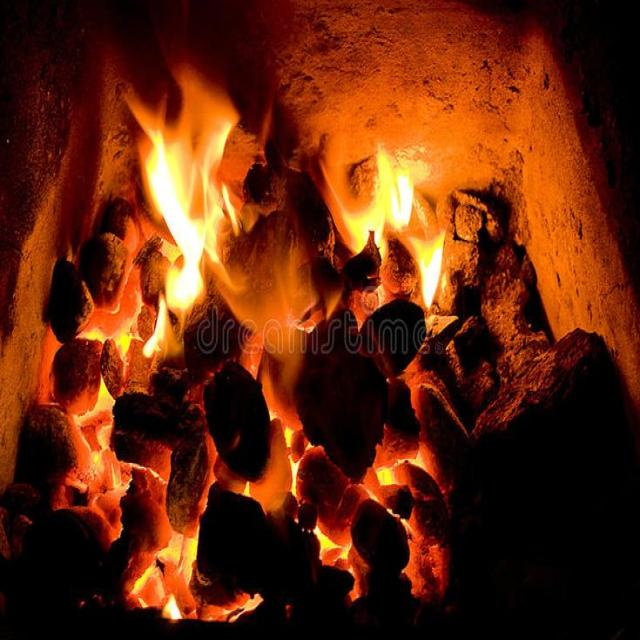Fire: (3, 0, 640, 640)
